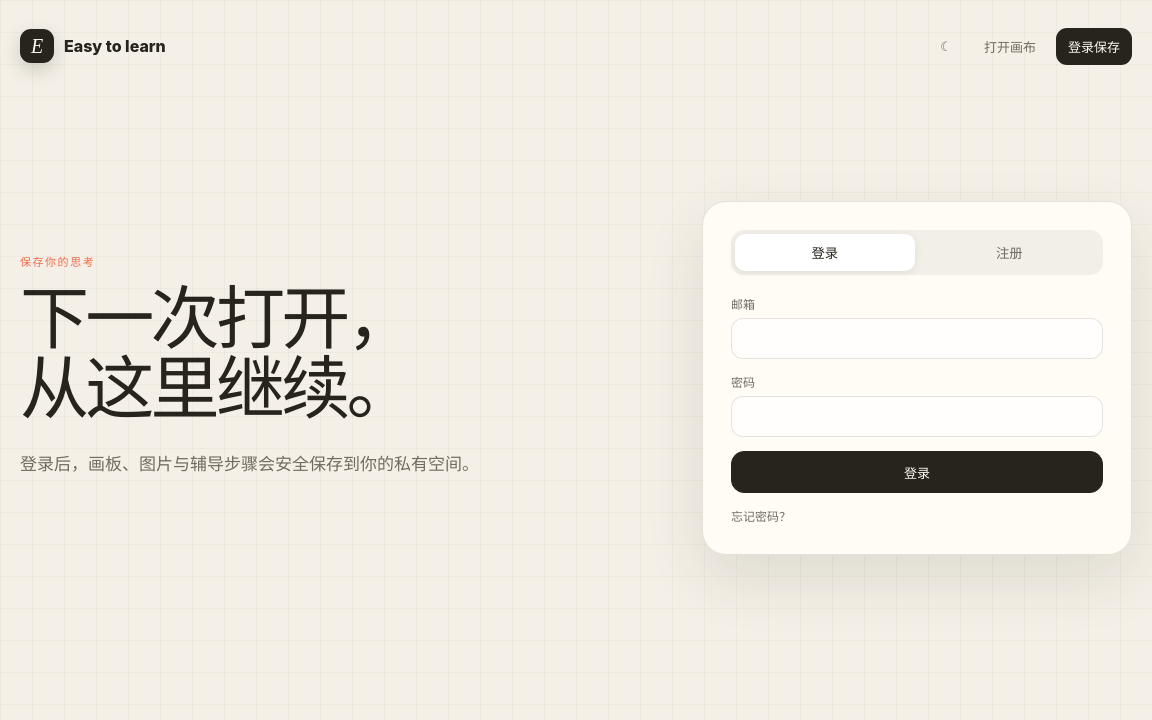
Scenario: LoginPage › 校验注册确认密码与条款，并显示邮箱验证状态
Click the tab "注册" at (1009, 252), box [920, 234, 1099, 271]
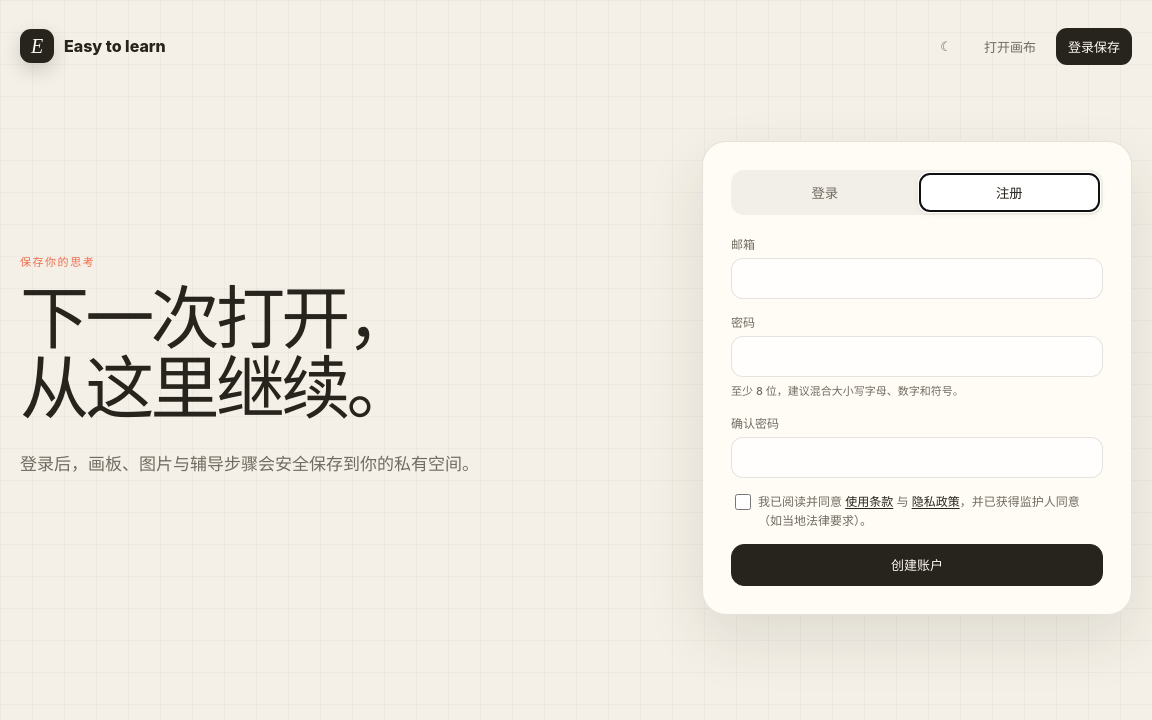
Type "Learner@Example.com" into the field labelled "邮箱" at (917, 279), box [731, 258, 1103, 299]
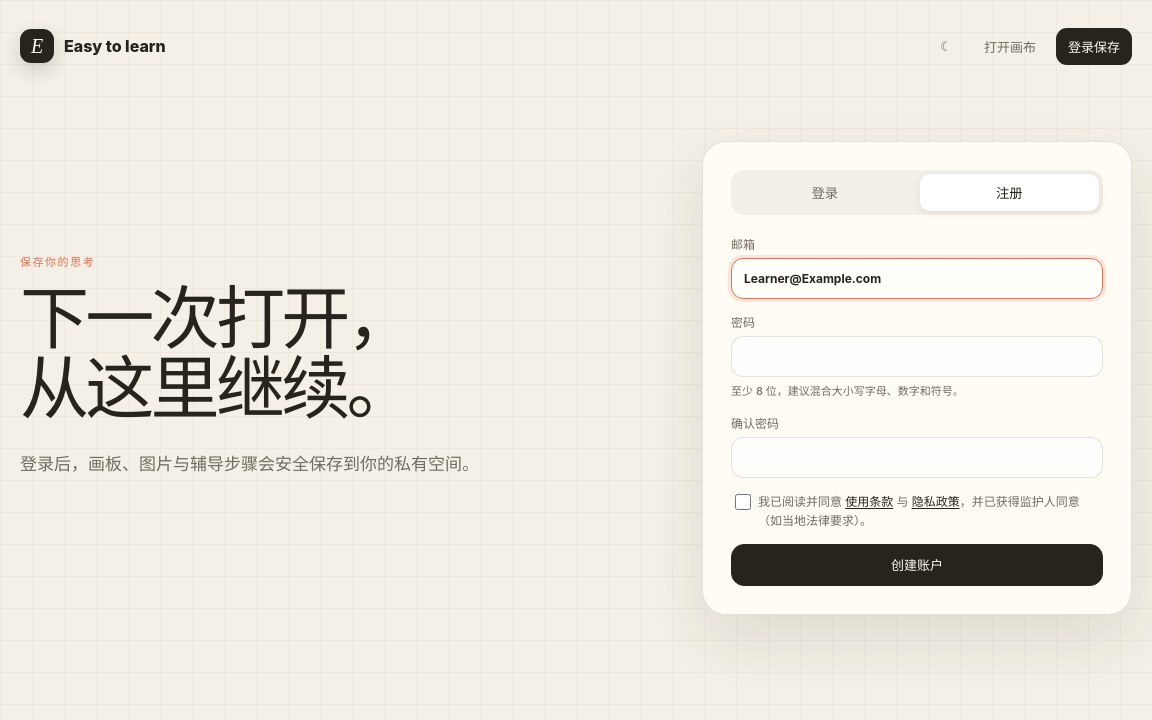
Type "Password123!" into the password field labelled "密码 至少 8 位，建议混合大小写字母、数字和符号。" at (917, 357), box [731, 336, 1103, 377]
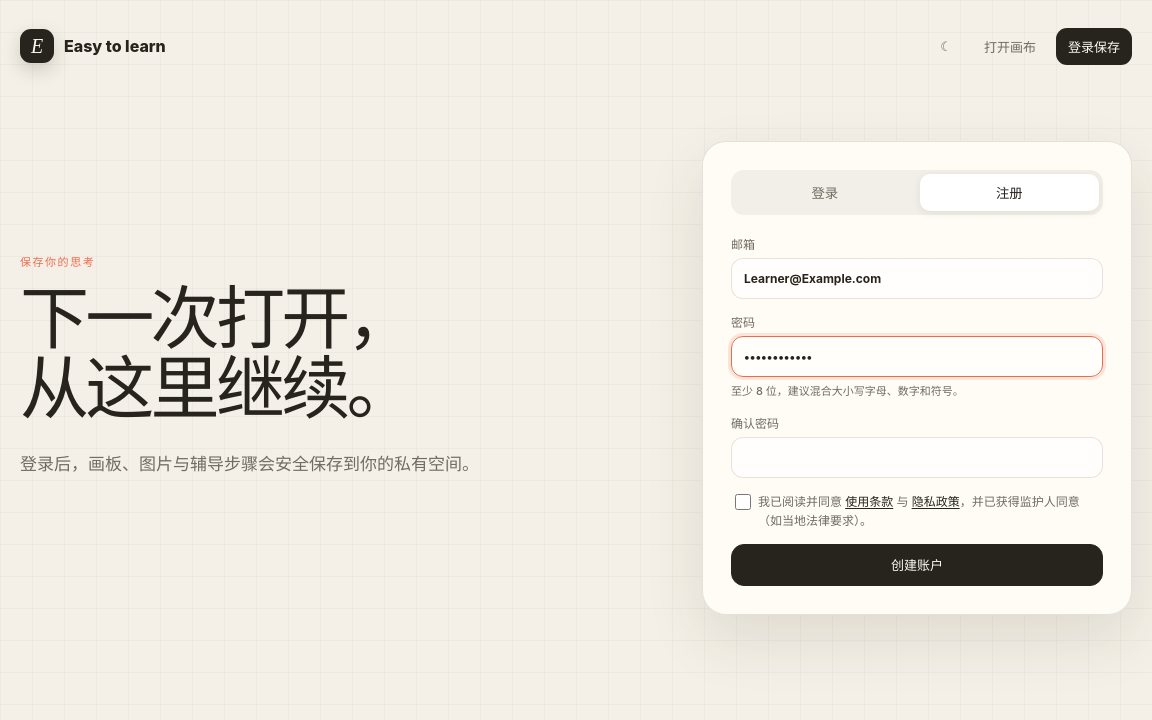
Type "Password123!" into the password field labelled "确认密码" at (917, 457), box [731, 437, 1103, 478]
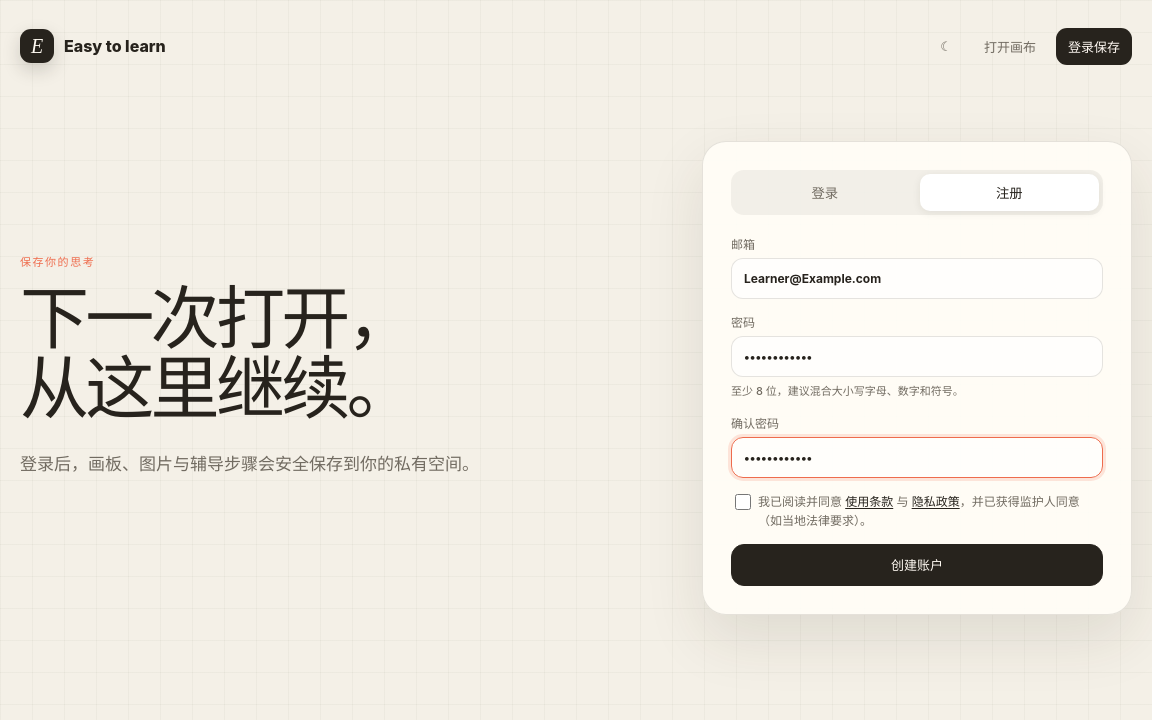
Click the checkbox at (743, 502), box [735, 494, 751, 510]
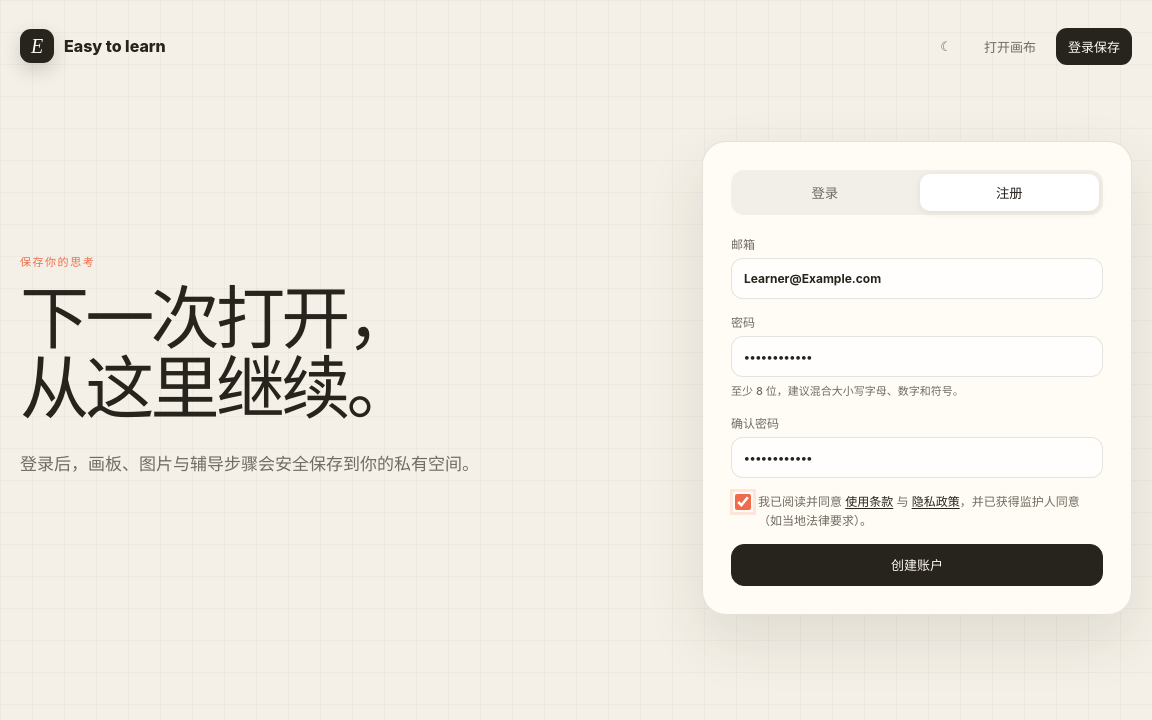
Click the button "创建账户" at (917, 565), box [731, 544, 1103, 586]
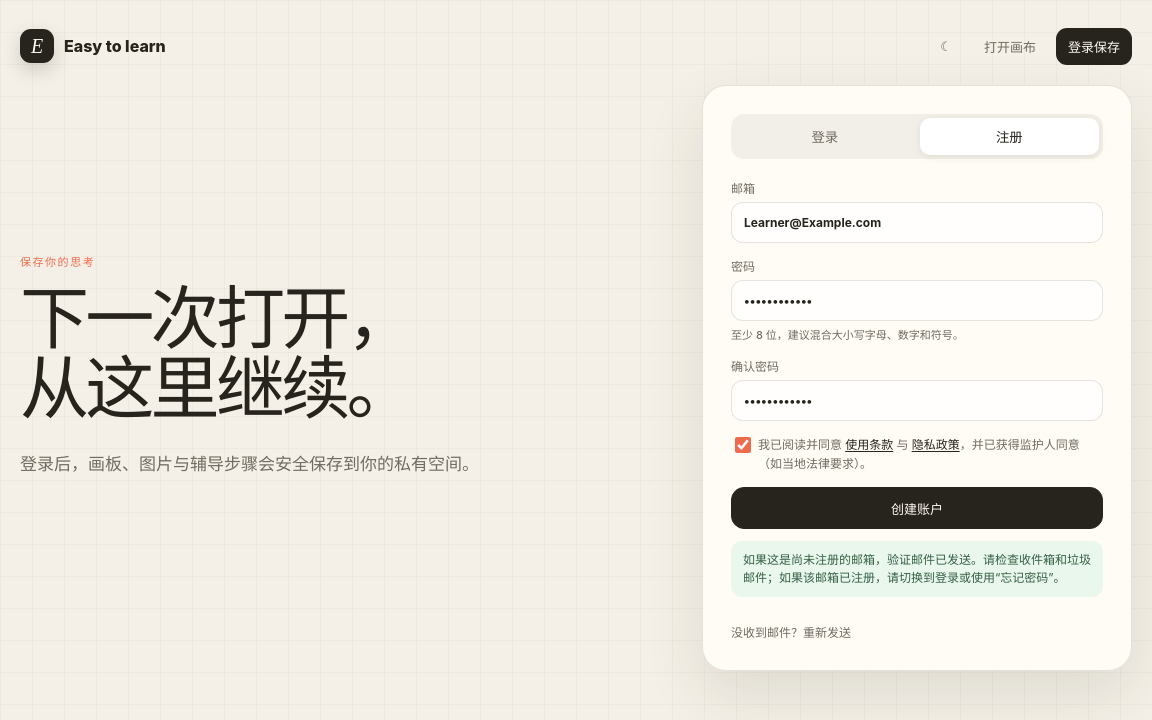
Expected: the text "如果这是尚未注册的邮箱，验证邮件已发送。请检查收件箱和垃圾邮件；如果该邮箱已注册，请切换到登录或使用“忘记密码”。" is shown, [731, 541, 1103, 597]
Expected: the button "没收到邮件？重新发送" is shown, [731, 621, 851, 642]
